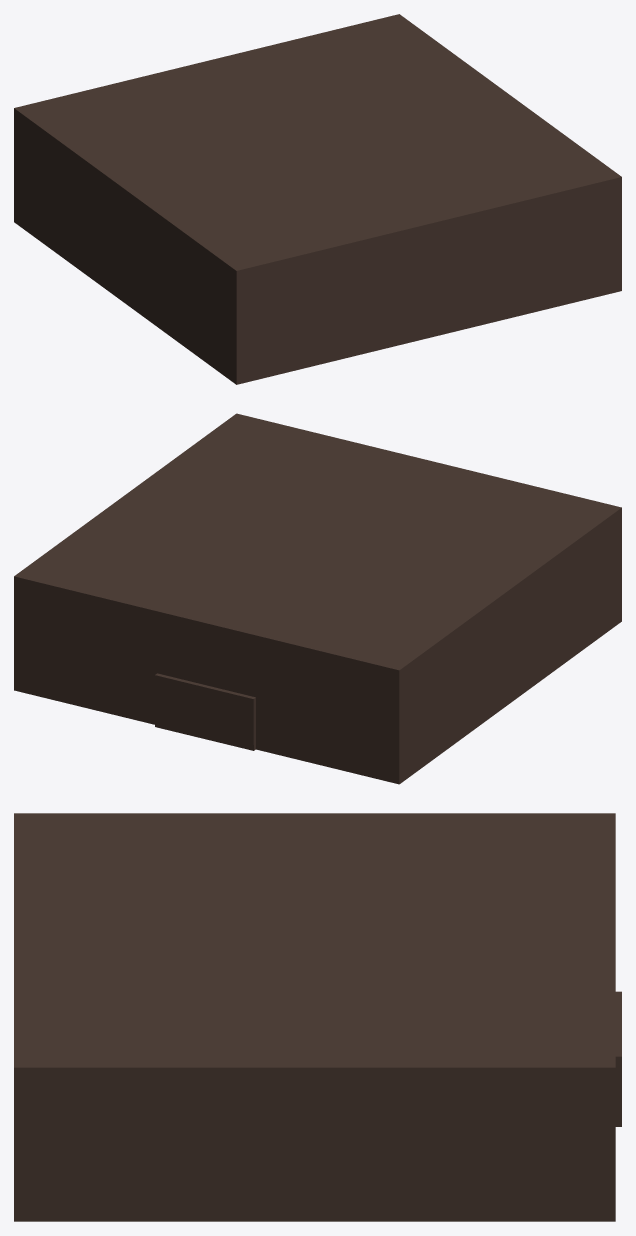
Rendered from Itr_Trashcan1_Cap_06.FBX.
3 renders of one model, top to bottom at view 1: azimuth 30°, elevation 25°; view 2: azimuth 150°, elevation 25°; view 3: azimuth 270°, elevation 25°, orthographic. The views are drawn at different scales.
Visible parts, largest first — view 1: Itr_Trashcan1_Cap_06; view 2: Itr_Trashcan1_Cap_06; view 3: Itr_Trashcan1_Cap_06.
Boxes of the visible parts, x1,y1,x2,y2 form: Itr_Trashcan1_Cap_06: (14, 14, 621, 384); Itr_Trashcan1_Cap_06: (14, 413, 621, 784); Itr_Trashcan1_Cap_06: (14, 813, 621, 1221).
Size of the model in its own units: 14.85 by 4.2 by 15.01.
